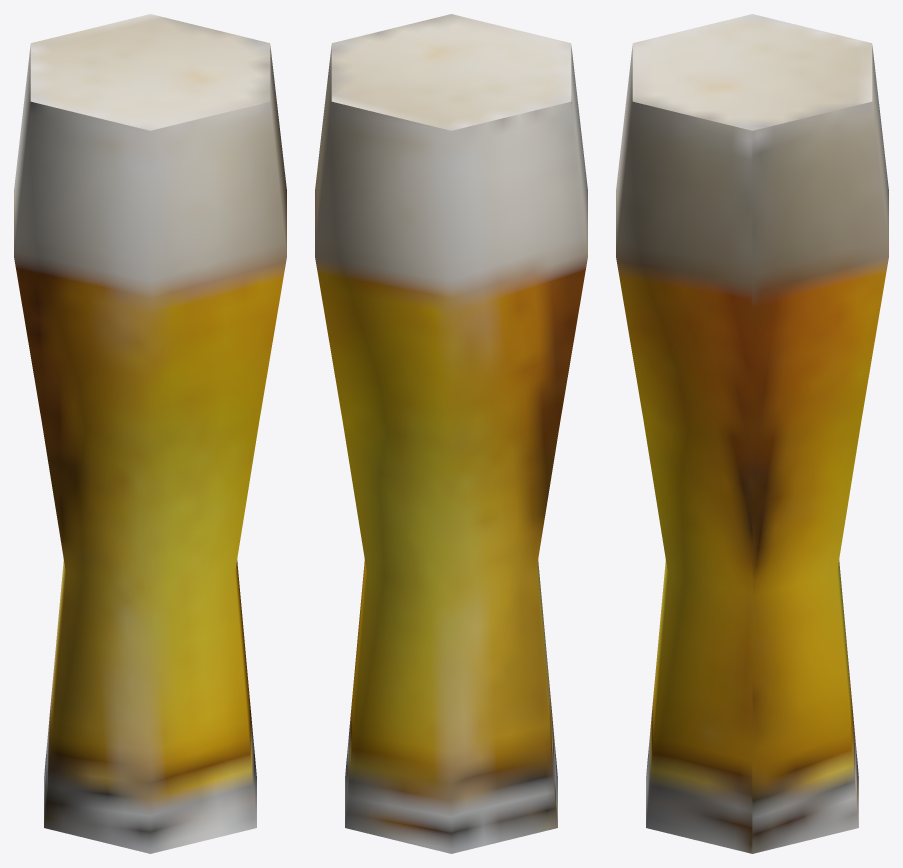
Rendered from BeerLagerInGlassV1.fbx.
The picture shows the model from 3 angles, left to right: view 1: azimuth 30°, elevation 25°; view 2: azimuth 150°, elevation 25°; view 3: azimuth 270°, elevation 25°; orthographic projection.
Parts seen in each view (by area): view 1: Beer&Wine.006; view 2: Beer&Wine.006; view 3: Beer&Wine.006.
Part boxes in pixels (x1,y1,x2,y2): Beer&Wine.006: (14,14,286,853); Beer&Wine.006: (315,14,587,853); Beer&Wine.006: (616,14,888,853).
Bounding box in the file's own units: 0.1076 × 0.2749 × 0.0932.
